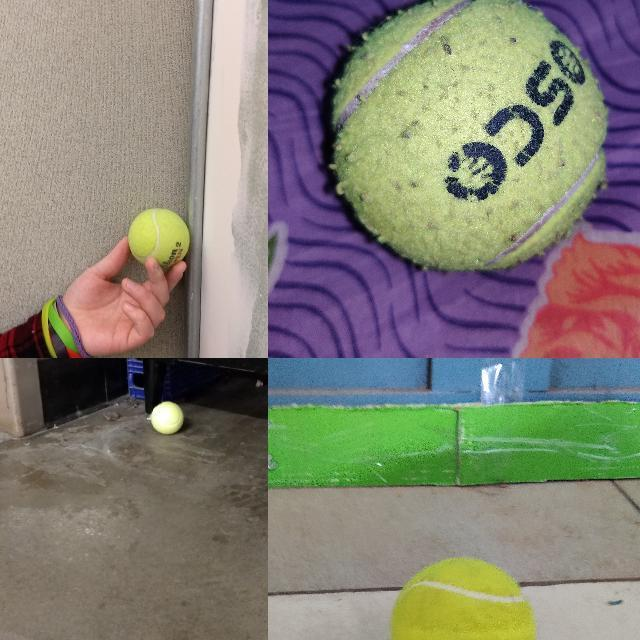tennis-ball: (332, 0, 609, 272), (389, 556, 537, 639), (127, 208, 189, 268), (150, 401, 184, 434)
